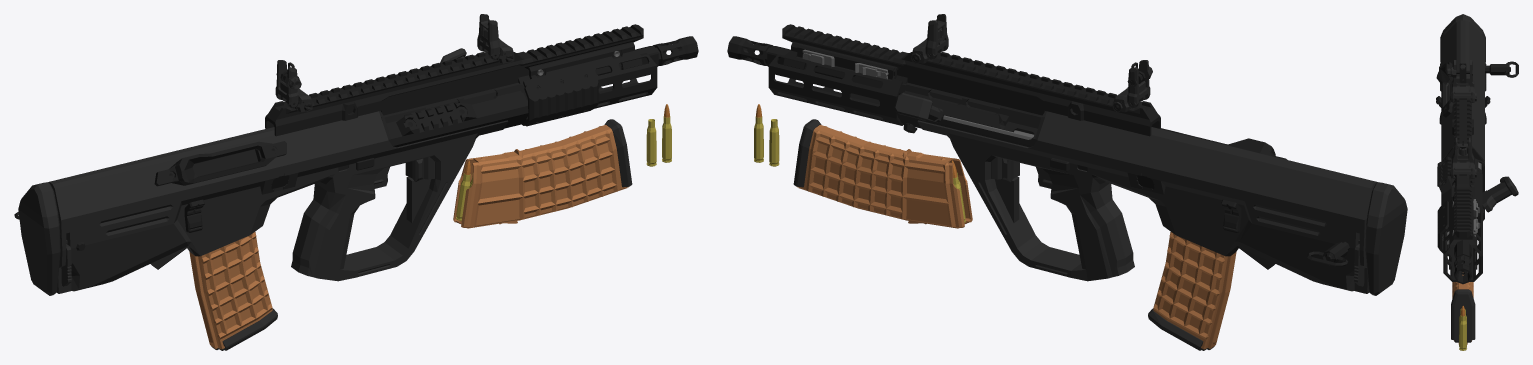
The model's file is aug_a4.glb.
3 views of the same model, side by side, from view 1: azimuth 30°, elevation 25°; view 2: azimuth 150°, elevation 25°; view 3: azimuth 270°, elevation 25° (orthographic). The views are drawn at different scales.
Visible parts, largest first — view 1: Object_10, Object_17, Object_9, Object_4; view 2: Object_10, Object_17, Object_9, Object_18, Object_4; view 3: Object_17, Object_10, Object_4, Object_18, Object_9.
Boxes of the visible parts, x1,y1,x2,y2 form: Object_10: (18,14,632,350); Object_17: (14,19,698,250); Object_9: (189,124,629,349); Object_4: (455,116,671,220); Object_10: (793,14,1407,350); Object_17: (727,19,1349,266); Object_9: (797,124,1236,349); Object_18: (802,49,1033,139); Object_4: (754,116,965,222); Object_17: (1436,61,1518,284); Object_10: (1440,14,1518,343); Object_4: (1459,308,1466,350); Object_18: (1442,162,1481,244); Object_9: (1452,272,1473,344).
Bounding box in the file's own units: 6.97 × 2.7 × 0.986.
